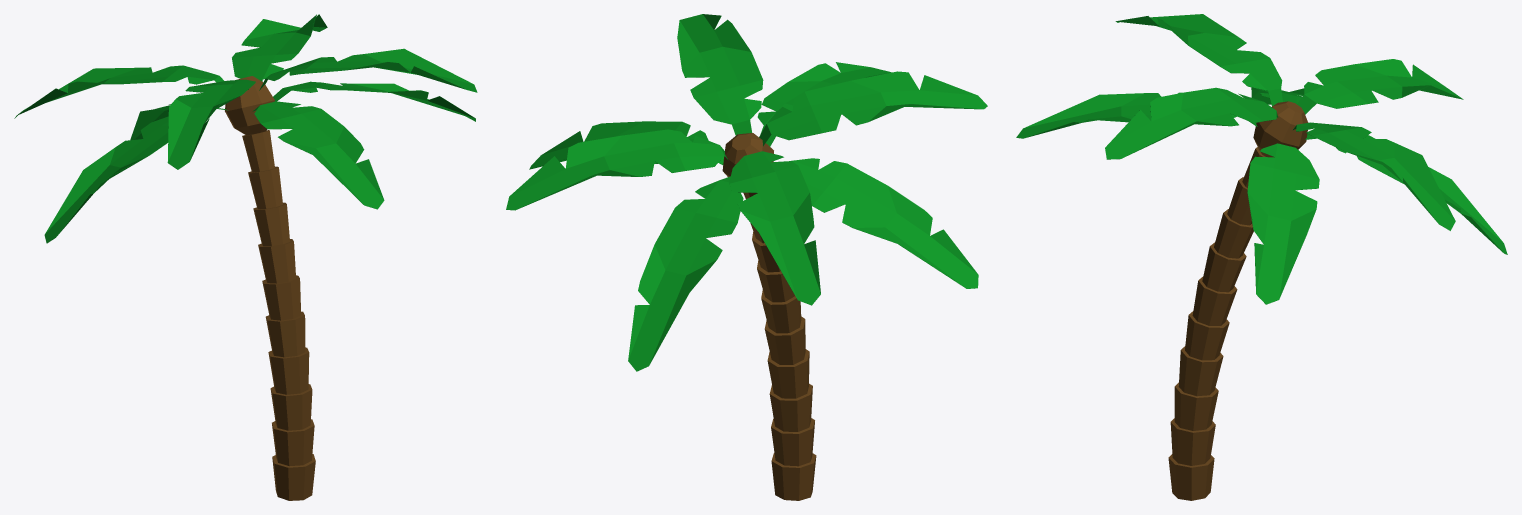
File: PalmTree.fbx
3 renders of one model, left to right at view 1: azimuth 30°, elevation 25°; view 2: azimuth 150°, elevation 25°; view 3: azimuth 270°, elevation 25°, orthographic. The views are drawn at different scales.
Parts seen in each view (by area): view 1: Trunk, Frond.003, Frond.002, Frond.004, Frond.006, Frond.007, Frond.005, Frond, Frond.001; view 2: Trunk, Frond.001, Frond.002, Frond.005, Frond.004, Frond.006, Frond.007, Frond.003, Frond; view 3: Trunk, Frond, Frond.007, Frond.005, Frond.006, Frond.004, Frond.003, Frond.001.
Boxes of the visible parts, left/top/right/bottom form: Trunk: left=225, top=76, right=315, bottom=500; Frond.003: left=252, top=101, right=384, bottom=209; Frond.002: left=44, top=108, right=227, bottom=243; Frond.004: left=167, top=79, right=255, bottom=169; Frond.006: left=232, top=14, right=327, bottom=81; Frond.007: left=259, top=48, right=477, bottom=92; Frond.005: left=14, top=65, right=224, bottom=118; Frond: left=273, top=81, right=475, bottom=121; Frond.001: left=130, top=104, right=170, bottom=140; Trunk: left=722, top=133, right=816, bottom=500; Frond.001: left=628, top=176, right=743, bottom=371; Frond.002: left=791, top=158, right=978, bottom=288; Frond.005: left=729, top=151, right=820, bottom=305; Frond.004: left=759, top=71, right=987, bottom=146; Frond.006: left=506, top=129, right=728, bottom=210; Frond.007: left=677, top=14, right=763, bottom=135; Frond.003: left=757, top=62, right=891, bottom=146; Frond: left=529, top=121, right=723, bottom=169; Trunk: left=1168, top=101, right=1307, bottom=500; Frond: left=1247, top=143, right=1319, bottom=304; Frond.007: left=1105, top=87, right=1278, bottom=159; Frond.005: left=1297, top=59, right=1463, bottom=114; Frond.006: left=1293, top=122, right=1455, bottom=230; Frond.004: left=1115, top=14, right=1282, bottom=106; Frond.003: left=1016, top=92, right=1257, bottom=138; Frond.001: left=1305, top=134, right=1507, bottom=254.
Size of the model in its own units: 2647 by 2492 by 2560.
